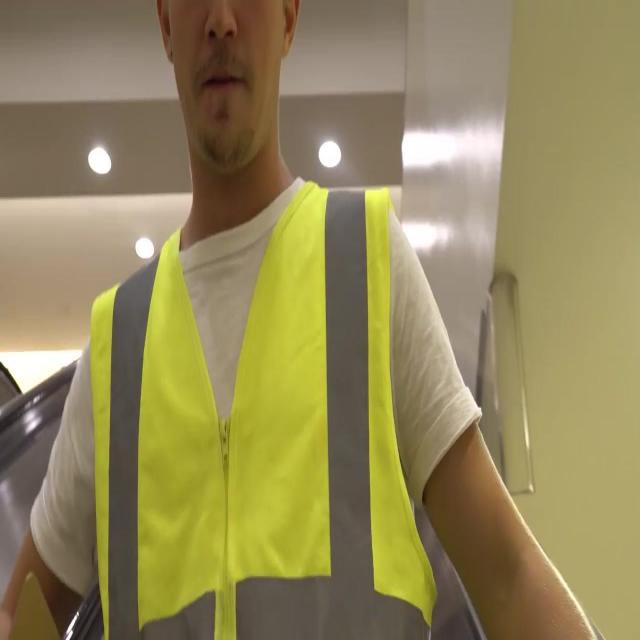Reflective-Jacket: (80, 186, 438, 636)
